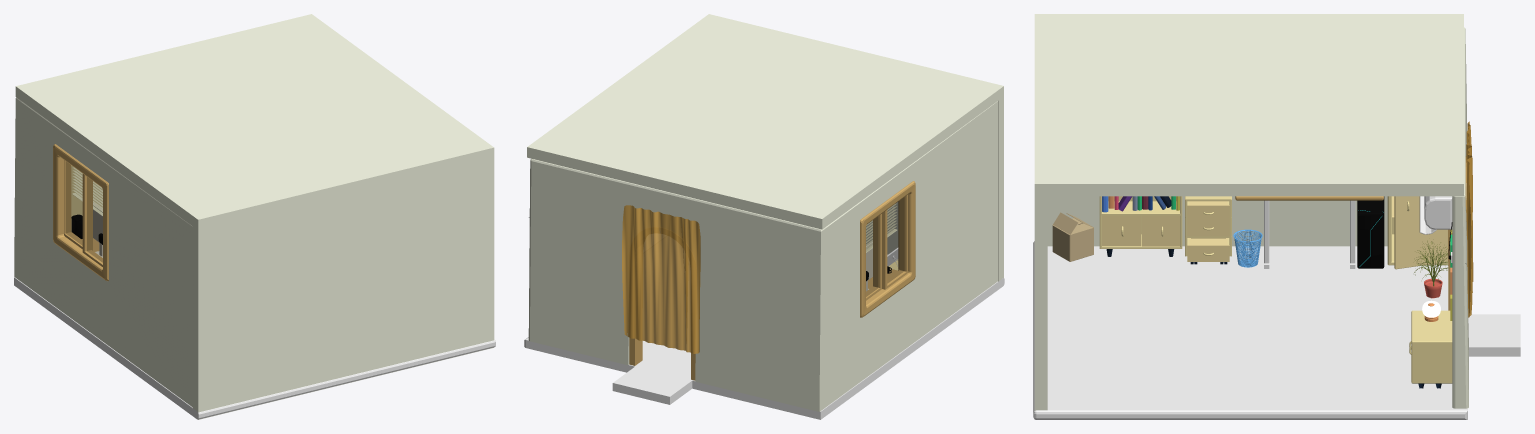
File: house.glb
3 renders of one model, left to right at view 1: azimuth 30°, elevation 25°; view 2: azimuth 150°, elevation 25°; view 3: azimuth 270°, elevation 25°, orthographic. The views are drawn at different scales.
Visible parts, largest first — view 1: 房顶, 主体, 窗, 地板, 玻璃.001, 玻璃, 竖柜, Venetian_slats; view 2: 主体, 房顶, 门帘, 地板, 窗, 玻璃, 玻璃.001, 门, Venetian_slats; view 3: 房顶, 地板, 主体, 柜体, 竖柜门, 立方体.002, 书柜.001, 主机, 空箱子大, 书柜, 门帘, 空调 (+6 smaller).
Boxes of the visible parts, left/top/right/bottom form: 房顶: left=15, top=14, right=494, bottom=419; 主体: left=14, top=97, right=192, bottom=406; 窗: left=53, top=144, right=108, bottom=281; 地板: left=14, top=277, right=495, bottom=419; 玻璃.001: left=66, top=162, right=82, bottom=244; 玻璃: left=87, top=177, right=102, bottom=261; 竖柜: left=71, top=165, right=102, bottom=231; Venetian_slats: left=72, top=167, right=102, bottom=215; 主体: left=528, top=101, right=997, bottom=411; 房顶: left=527, top=14, right=1003, bottom=281; 门帘: left=622, top=205, right=700, bottom=353; 地板: left=524, top=254, right=1004, bottom=419; 窗: left=860, top=181, right=915, bottom=317; 玻璃: left=887, top=198, right=904, bottom=282; 玻璃.001: left=866, top=217, right=877, bottom=296; 门: left=629, top=227, right=695, bottom=380; Venetian_slats: left=866, top=203, right=896, bottom=252; 房顶: left=1034, top=14, right=1463, bottom=410; 地板: left=1033, top=241, right=1520, bottom=419; 主体: left=1047, top=27, right=1468, bottom=408; 柜体: left=1411, top=310, right=1452, bottom=383; 竖柜门: left=1394, top=196, right=1447, bottom=269; 立方体.002: left=1187, top=201, right=1229, bottom=261; 书柜.001: left=1102, top=215, right=1179, bottom=246; 主机: left=1357, top=196, right=1384, bottom=268; 空箱子大: left=1052, top=212, right=1093, bottom=261; 书柜: left=1099, top=196, right=1182, bottom=248; 门帘: left=1466, top=121, right=1473, bottom=317; 空调: left=1424, top=196, right=1452, bottom=229.
Bounding box in the file's own units: 33.03 × 21.09 × 39.48.
